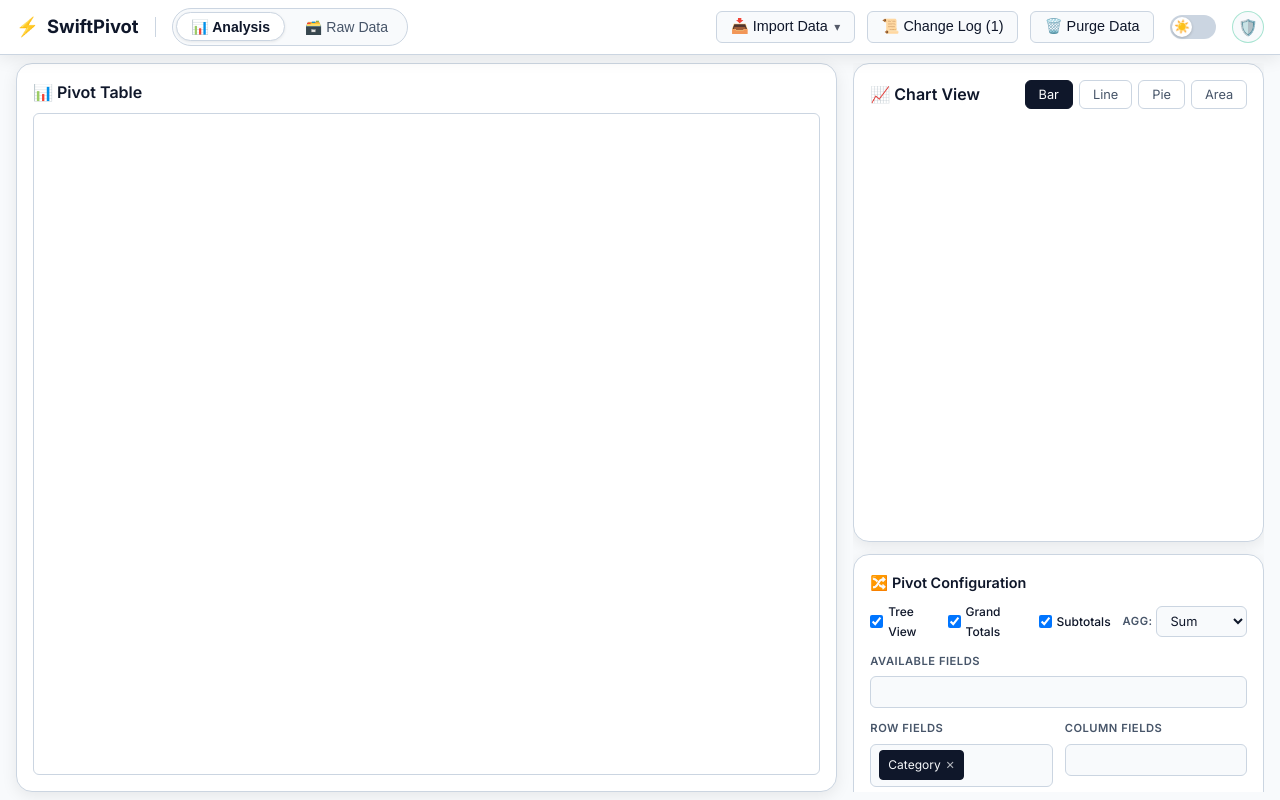
it: App › purges storage and resets app state when purge button is clicked
What coordinates should you click on to do the following:
click the button "🗑️ Purge Data"
I would click on:
 (1092, 27)
Its box is [1030,11,1154,43].
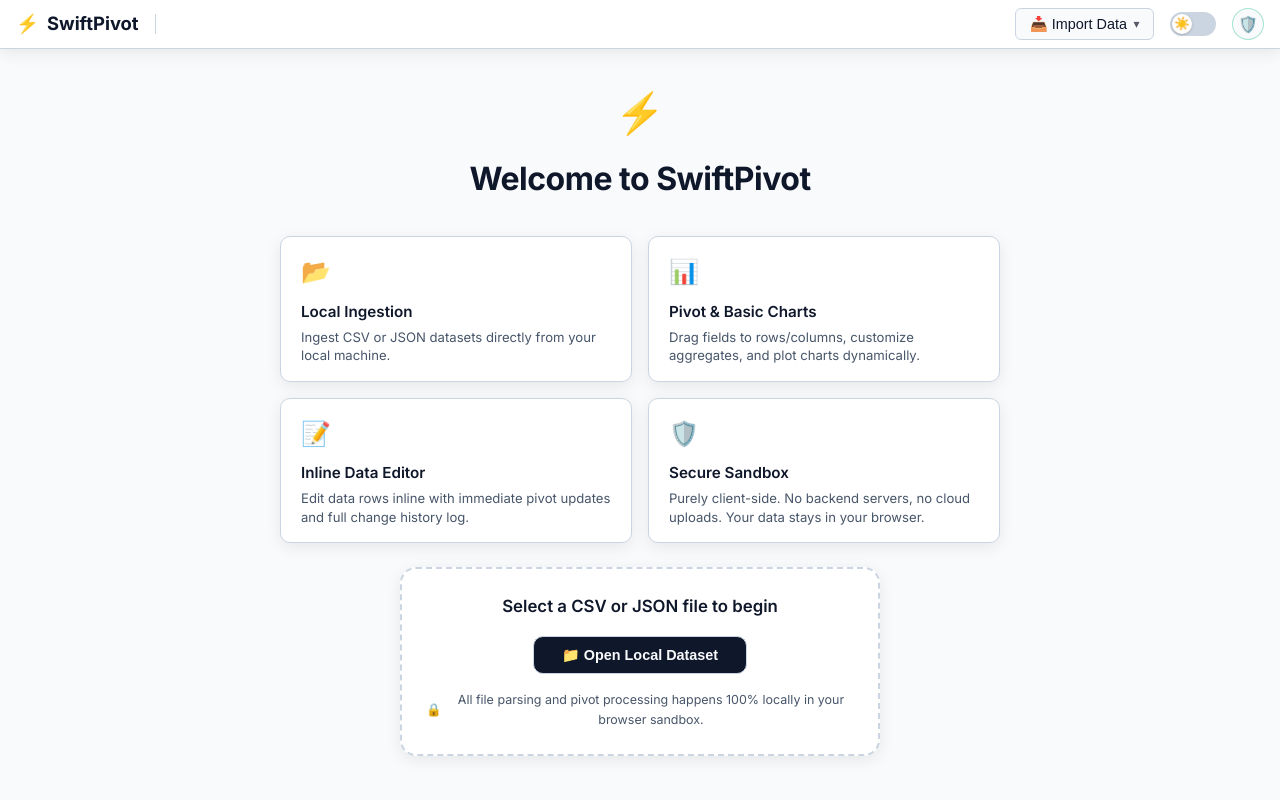
Expected: the heading "Welcome to SwiftPivot" is shown, [469,153,811,204]
